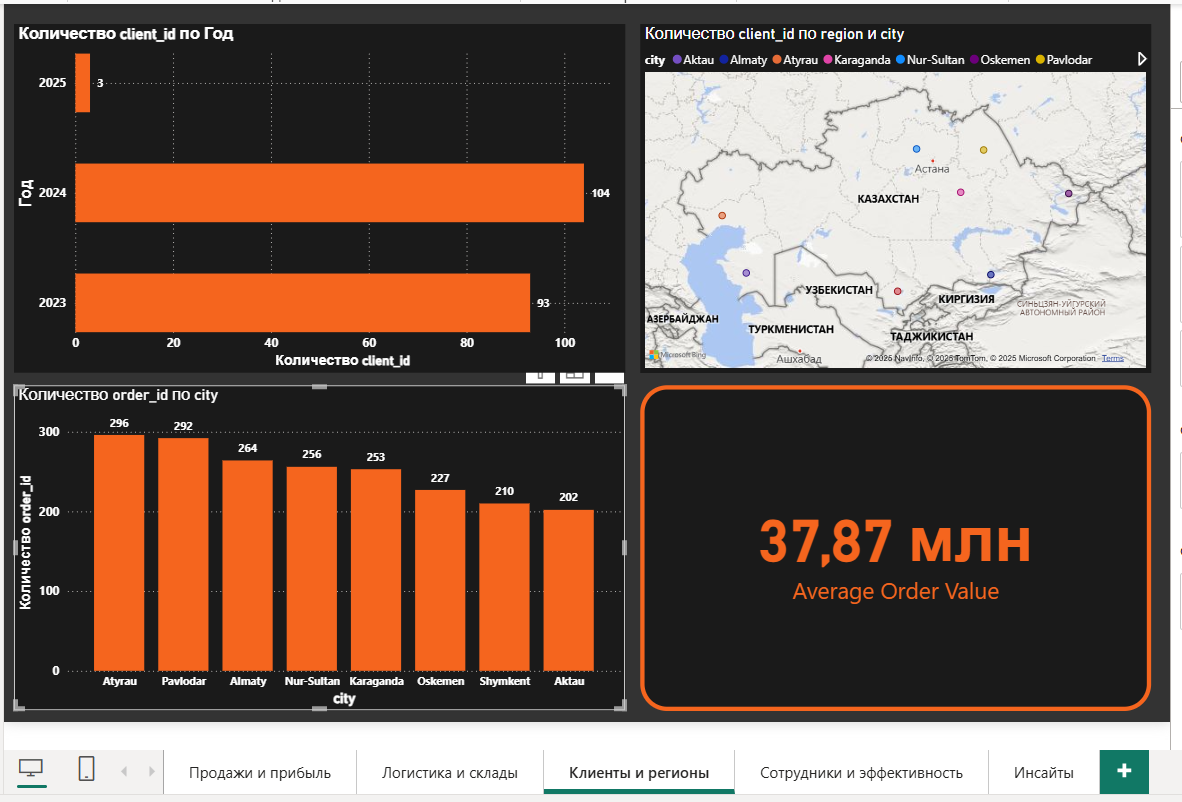

The page's visual inventory and layout, read from the dashboard file:
{"tool":"powerbi","page":{"name":"Клиенты и регионы","canvas":[1300,800],"ordinal":2},"visuals":[{"type":"map","fields":{"Category":["Student public_clients.region"],"Series":["Student public_clients.city"]},"box":[709.9,22.4,569.4,388.6],"z":0},{"type":"columnChart","fields":{"Category":["Student public_clients.city"],"Y":["CountNonNull(Student public_orders.order_id)"]},"box":[10.5,424.5,681.5,363.2],"z":1000},{"type":"card","fields":{"Values":["Меры.Average Order Value"]},"box":[709.9,424.5,569.4,363.2],"z":2000},{"type":"barChart","fields":{"Category":["Student public_clients.registration_date.Изменение.Иерархия дат.Год","Student public_clients.registration_date.Изменение.Иерархия дат.Квартал","Student public_clients.registration_date.Изменение.Иерархия дат.Месяц","Student public_clients.registration_date.Изменение.Иерархия дат.День"],"Y":["CountNonNull(Student public_clients.client_id)"]},"box":[10.5,22.4,681.5,388.6],"z":3000}]}

Visuals, with their boxes on the page's 1300x800 design canvas (x1, y1, x2, y2). These are canvas units, not pixel positions in the 1182x802 screenshot, which may show the page scaled, cropped or inside an application window:
map - Student public_clients.region x Student public_clients.city: <bbox>710, 22, 1279, 411</bbox>
columnChart - Student public_clients.city x CountNonNull(Student public_orders.order_id): <bbox>10, 424, 692, 788</bbox>
card - Меры.Average Order Value: <bbox>710, 424, 1279, 788</bbox>
barChart - Student public_clients.registration_date.Изменение.Иерархия дат.Год x Student public_clients.registration_date.Изменение.Иерархия дат.Квартал: <bbox>10, 22, 692, 411</bbox>
